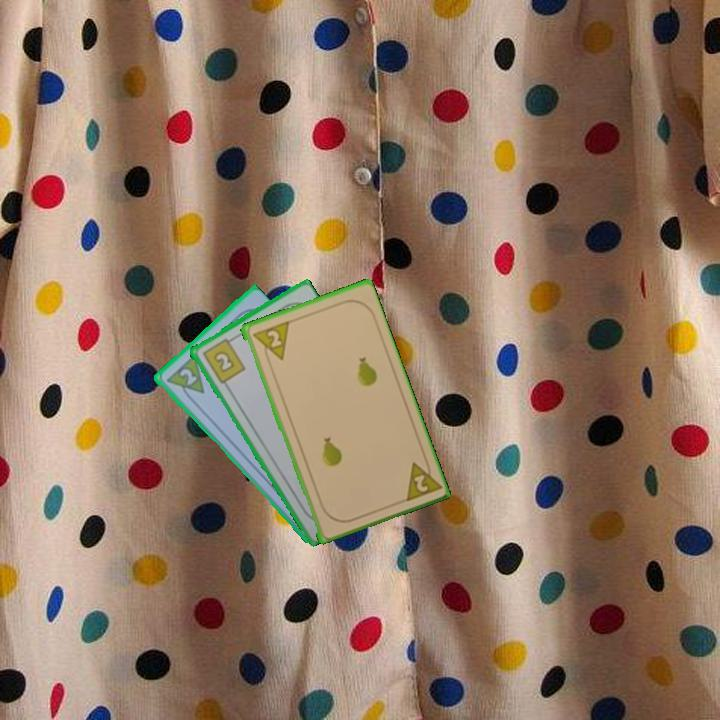2b: (199, 334, 248, 386)
2p: (162, 352, 207, 405), (399, 453, 442, 505), (249, 317, 291, 366)
